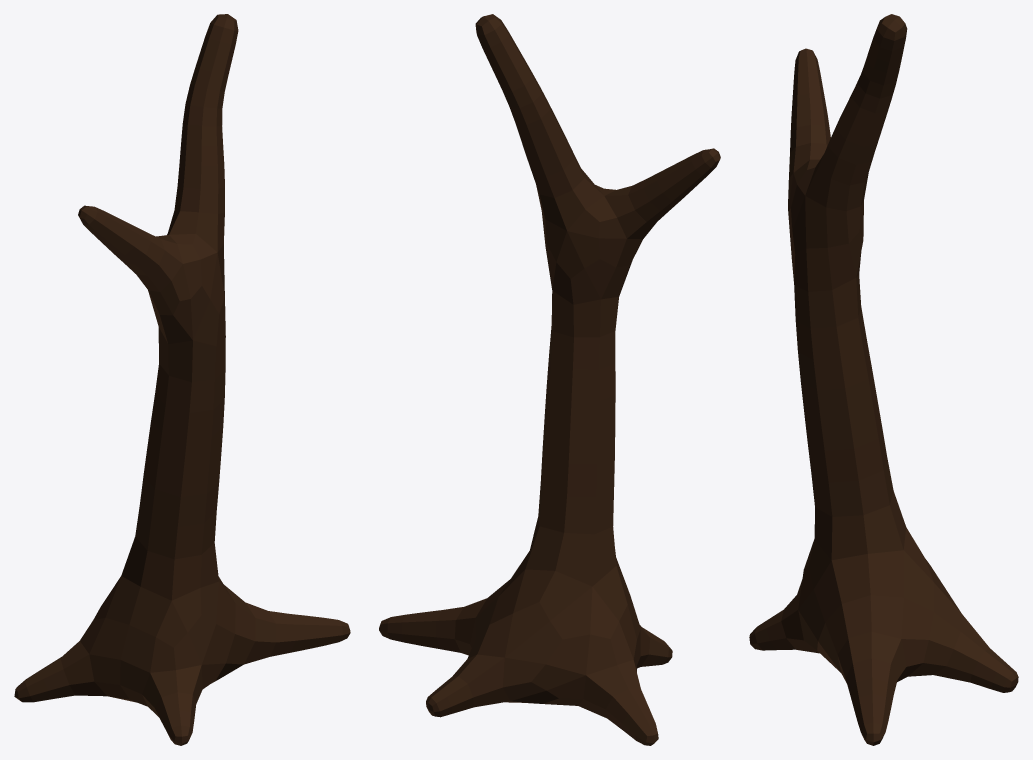
The model's file is tree3.fbx.
3 renders of one model, left to right at view 1: azimuth 30°, elevation 25°; view 2: azimuth 150°, elevation 25°; view 3: azimuth 270°, elevation 25°, orthographic. The views are drawn at different scales.
Visible parts, largest first — view 1: Plane; view 2: Plane; view 3: Plane.
Boxes of the visible parts, x1,y1,x2,y2 form: Plane: (14, 14, 350, 745); Plane: (379, 14, 720, 745); Plane: (749, 14, 1018, 745).
Bounding box in the file's own units: 508 × 1053 × 373.
